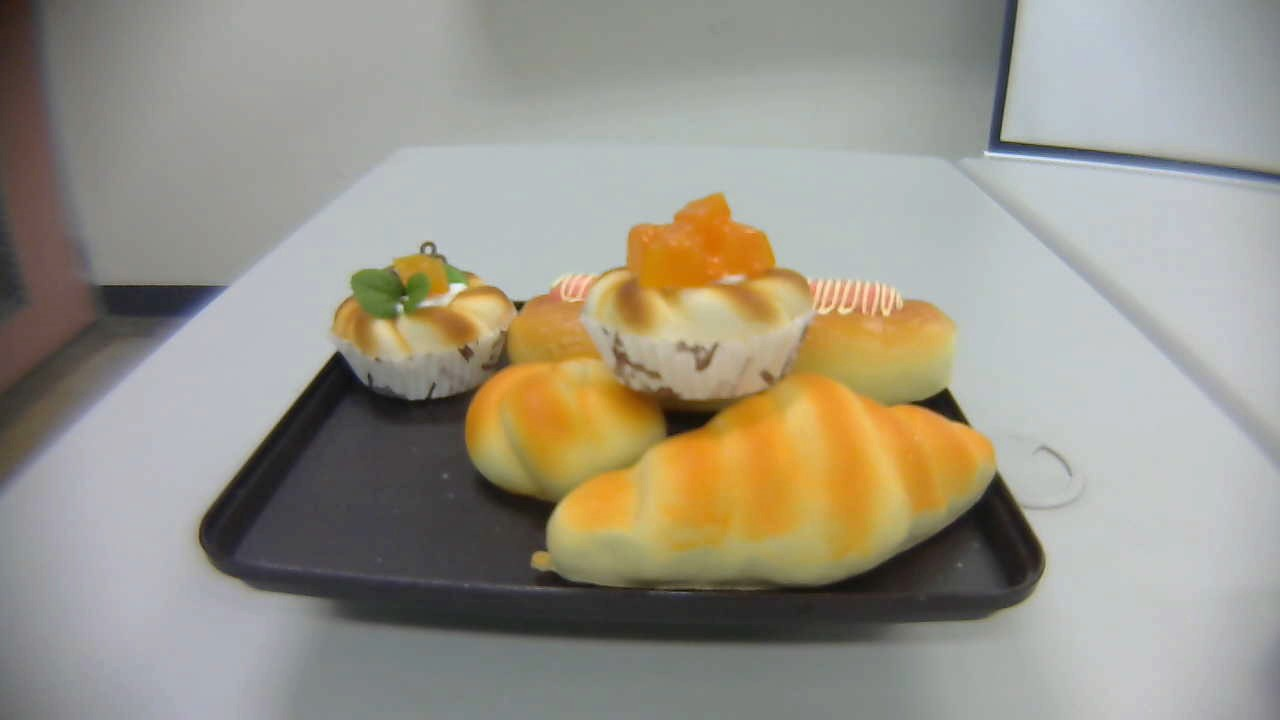croissant: (532, 371, 997, 589)
fruit tart: (328, 238, 520, 403)
hot dog: (506, 272, 961, 403)
mango tart: (580, 191, 813, 399)
twist bread: (464, 355, 669, 503)
